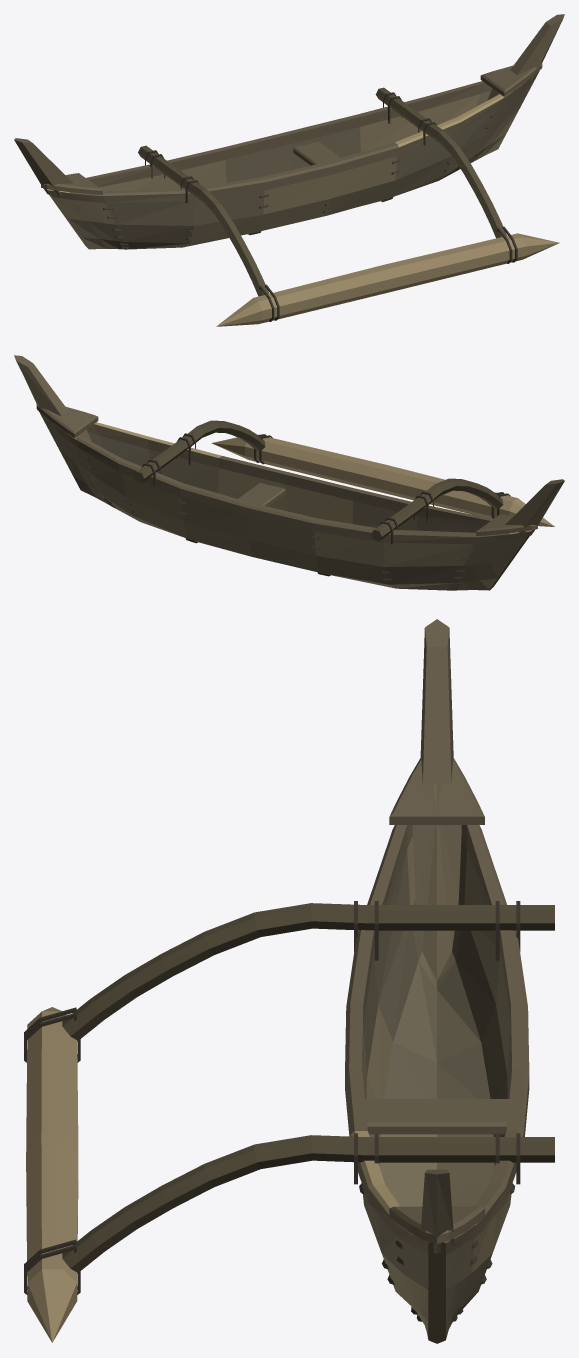
File: vaka-ama-outrigger-canoe-2fc79a.glb
3 views of the same model, one above another, from view 1: azimuth 30°, elevation 25°; view 2: azimuth 150°, elevation 25°; view 3: azimuth 270°, elevation 25° (orthographic). The views are drawn at different scales.
Visible parts, largest first — view 1: canoe; view 2: canoe; view 3: canoe.
Part boxes in pixels (<box>): canoe: <box>14,14,564,326</box>; canoe: <box>14,355,564,590</box>; canoe: <box>24,619,554,1343</box>.
Size of the model in its own units: 4.96 by 1.27 by 2.07.
